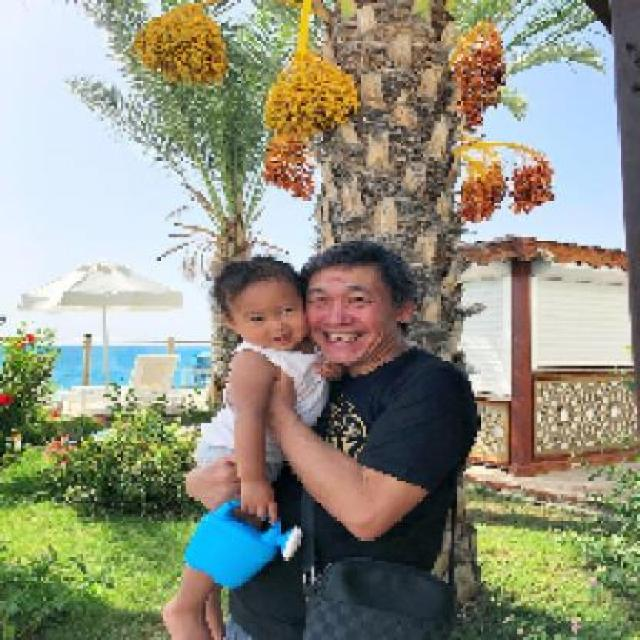child: (152, 254, 332, 637)
